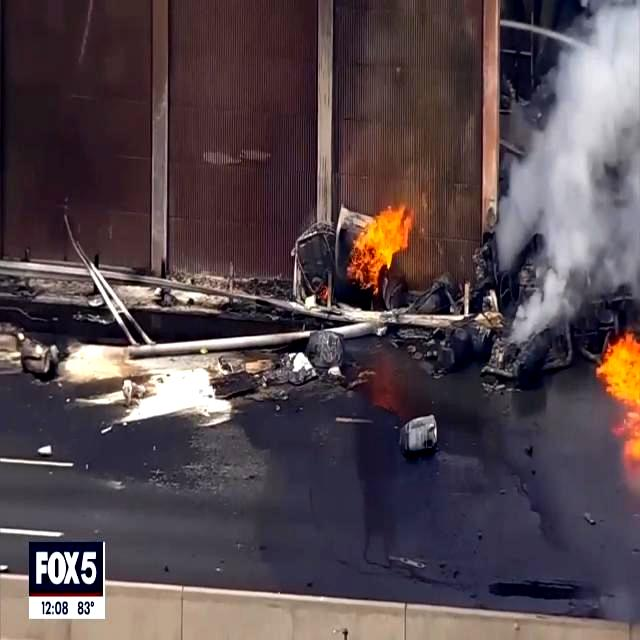fire: (348, 204, 412, 292)
